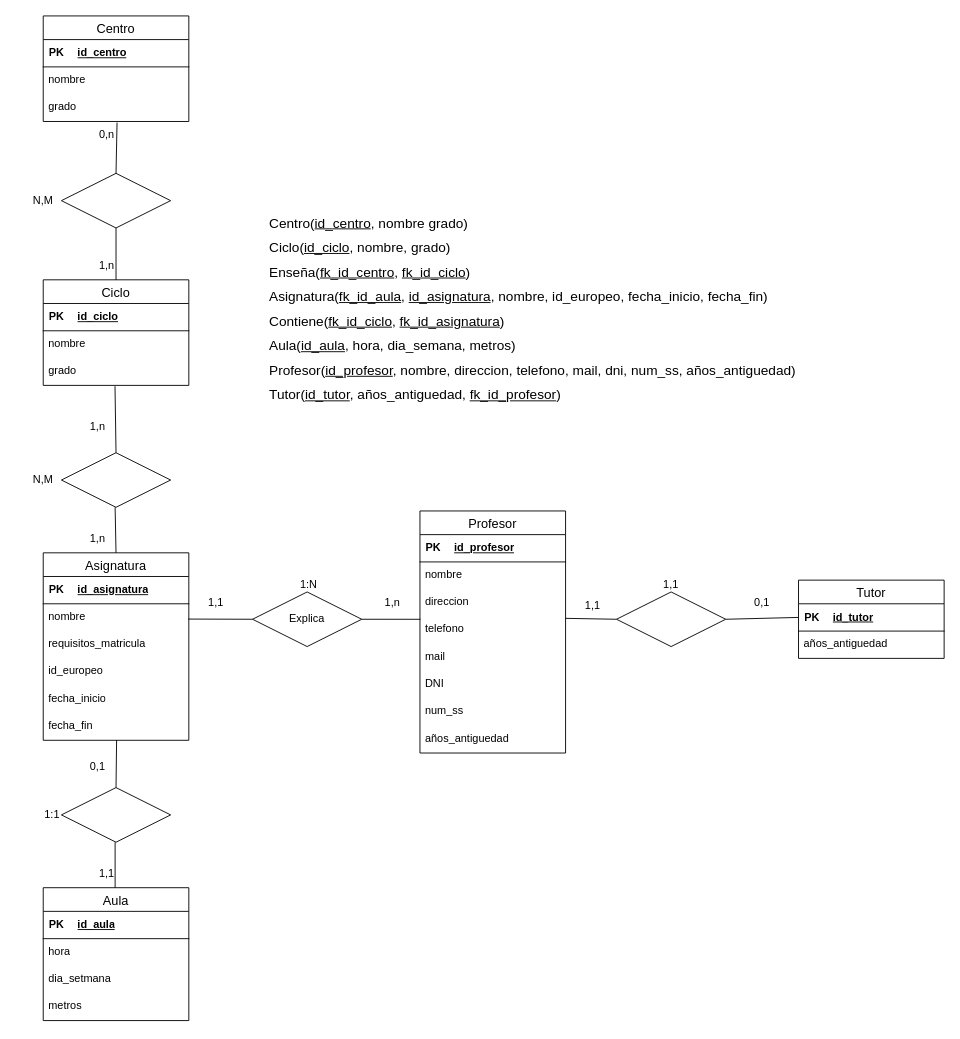
This 960x1039 diagram has some shape labels left out. The shapes that lost their labels are listed below. From the top down, each one's box as (x1, y1, x2, y2) in pixels, then its label:
(61, 172, 171, 228): Enseña
(61, 452, 171, 507): Contiene
(616, 591, 726, 647): Es
(61, 787, 171, 842): Imparte
